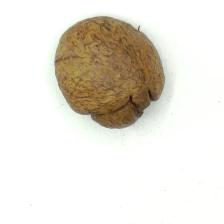NG: (76, 82, 167, 129)
